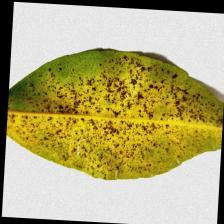canker: (64, 84, 150, 154)
